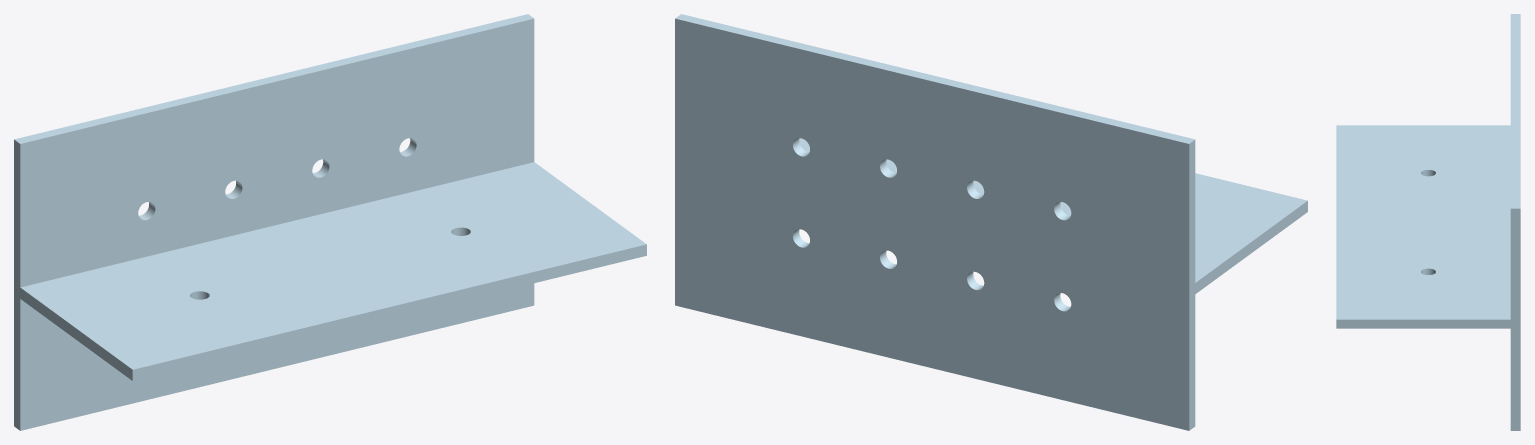
The picture shows the model from 3 angles, left to right: view 1: azimuth 30°, elevation 25°; view 2: azimuth 150°, elevation 25°; view 3: azimuth 270°, elevation 25°; orthographic projection. The views are drawn at different scales.
Visible parts, largest first — view 1: Part 1; view 2: Part 1; view 3: Part 1.
Part boxes in pixels (bbox=[...]): Part 1: bbox=[14, 14, 646, 430]; Part 1: bbox=[675, 14, 1307, 430]; Part 1: bbox=[1336, 14, 1520, 430].
Bounding box in the file's own units: 0.15 × 0.08 × 0.06.
